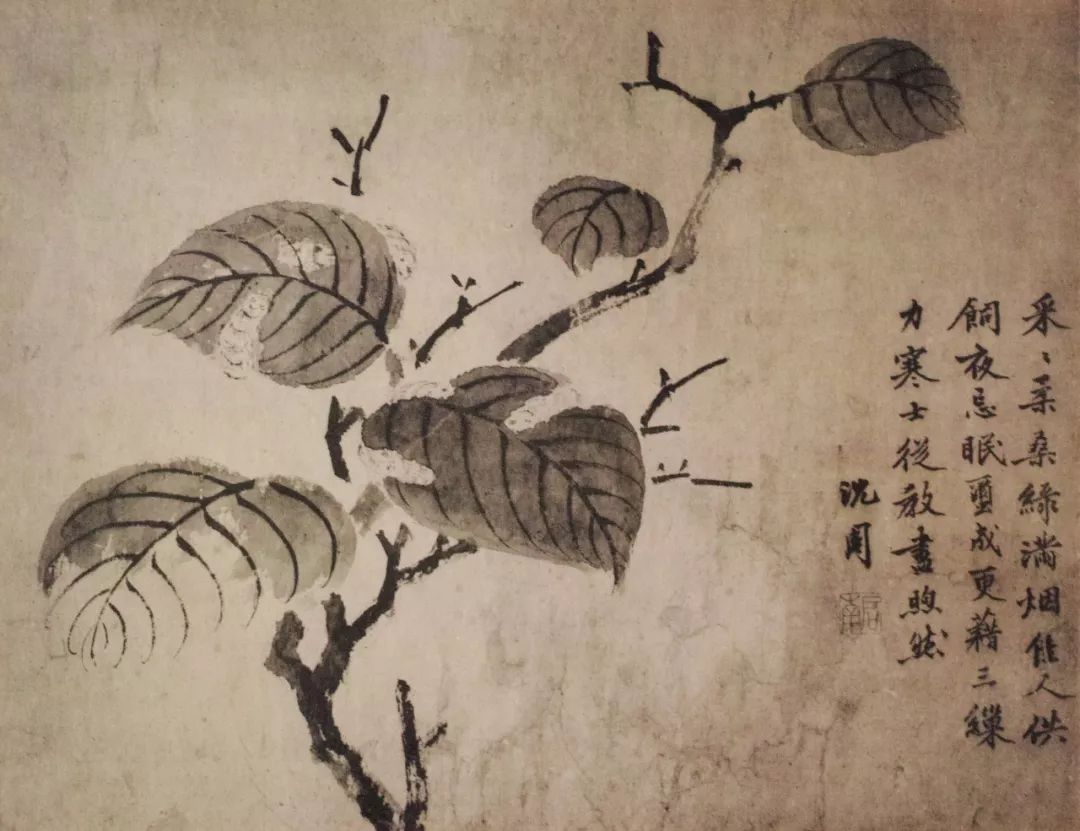grass: (70, 479, 334, 637), (407, 400, 643, 564), (177, 230, 386, 373), (290, 648, 443, 824), (810, 54, 972, 154), (485, 282, 663, 367), (330, 422, 406, 610), (671, 124, 735, 274), (555, 184, 660, 269), (244, 195, 342, 224), (341, 119, 372, 192)
